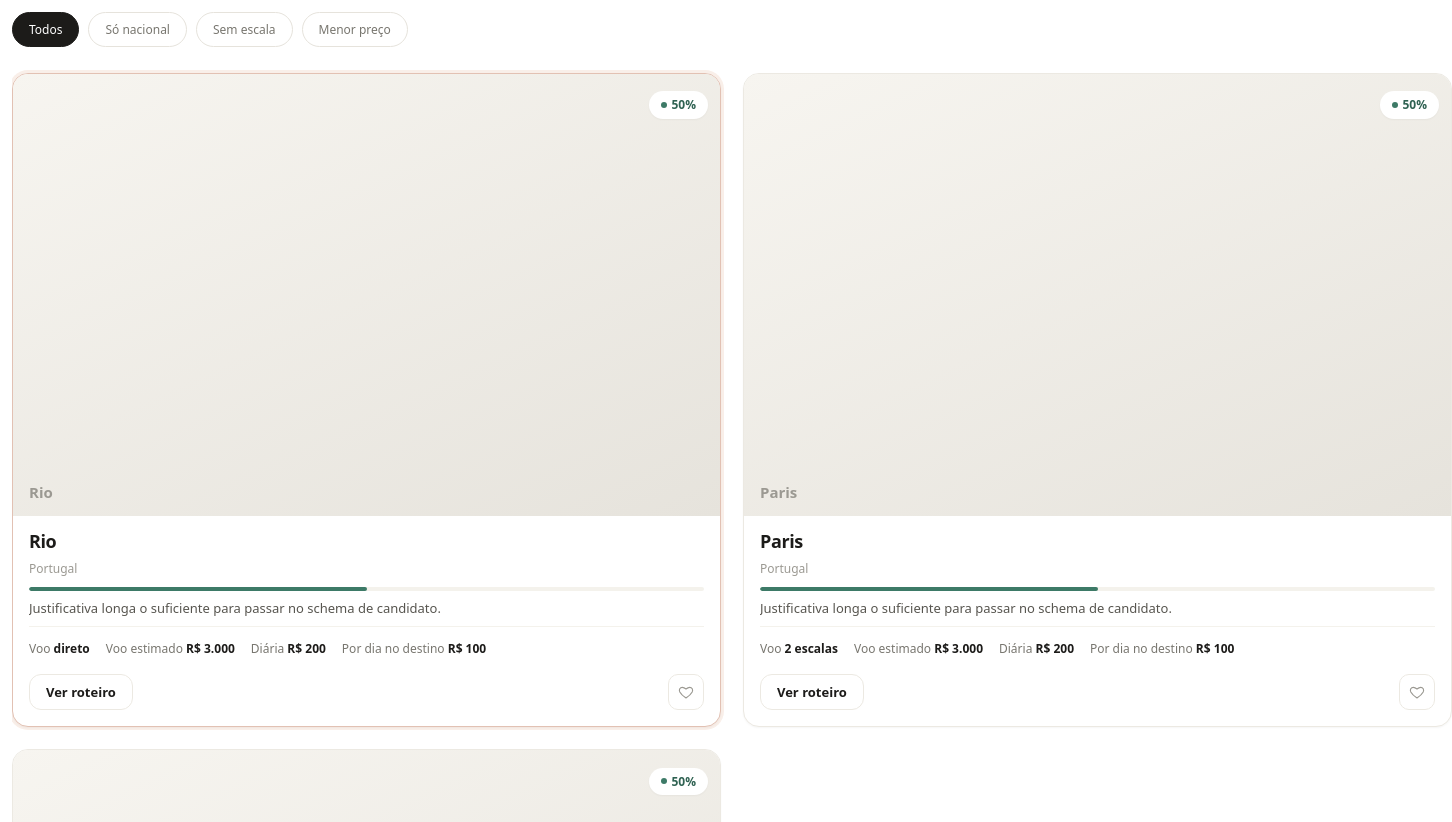
Test: DestinationResults › filtra por voo sem escala usando a escala que o provider confirmou
Step 1. Click the button "Sem escala" → (244, 30), box [196,12,292,47]
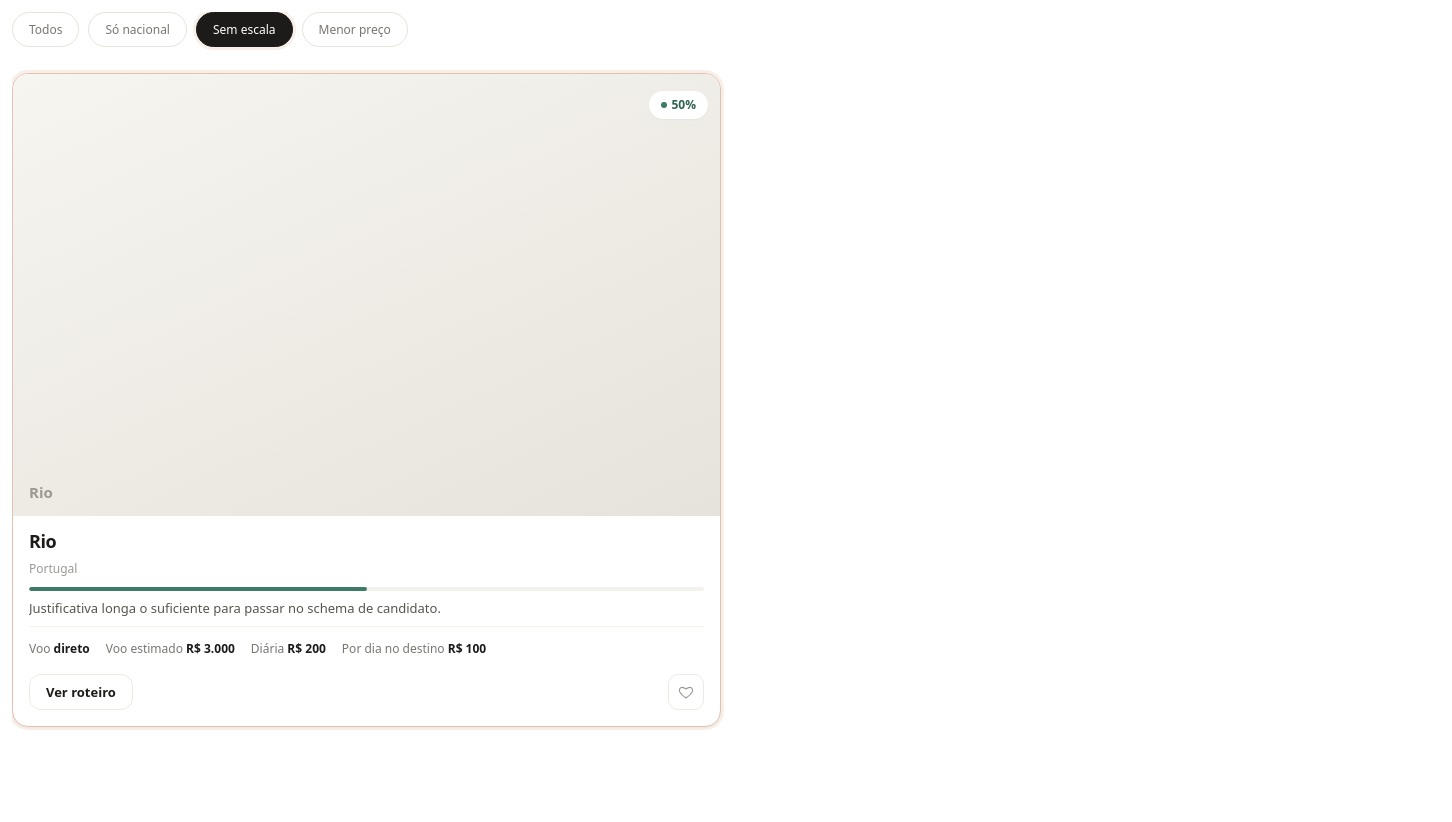
Expected: the heading "Rio" is shown, [29,529,56,553]
Expected: the picture "Paris" is gone
